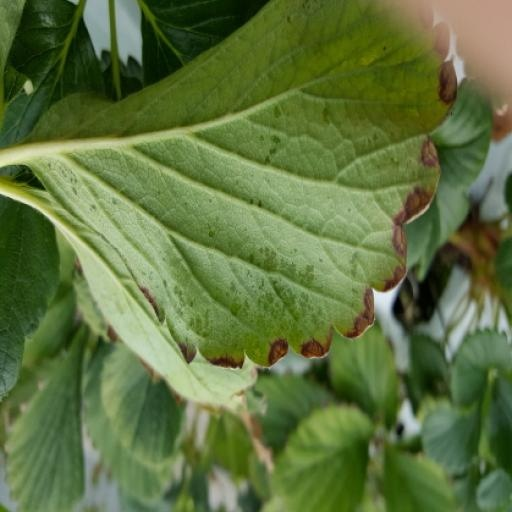Angular Leafspot: (26, 141, 458, 511)
